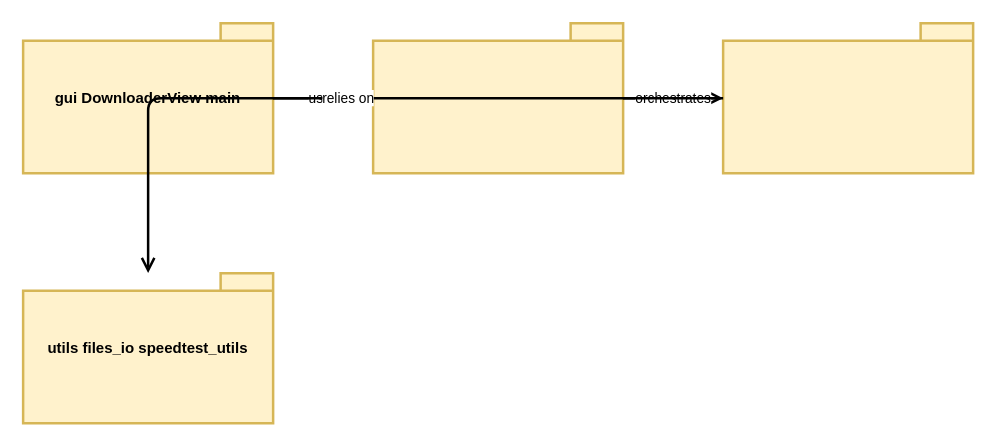
Image size: 995x445. Some labels were removed from this diagram. The shapes that lost their labels are listed below. From the top down, each one's box as (x1, y1, x2, y2) in pixels, then its label:
(371, 21, 624, 174): controller DownloaderController PlaylistState
(721, 21, 974, 174): processing extractor formats downloaders
